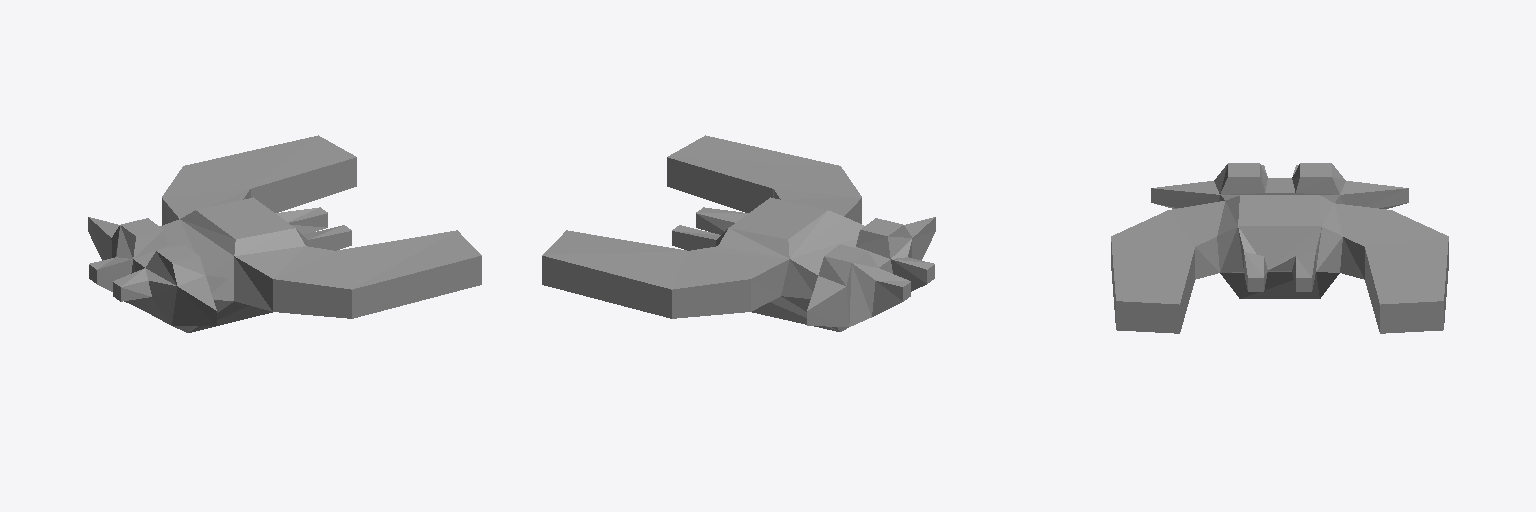
File: sosoqaloobj.obj
3 views of the same model, side by side, from view 1: azimuth 30°, elevation 25°; view 2: azimuth 150°, elevation 25°; view 3: azimuth 270°, elevation 25° (orthographic).
Parts seen in each view (by area): view 1: sowalo_Cube.005; view 2: sowalo_Cube.005; view 3: sowalo_Cube.005.
Part boxes in pixels (bbox=[...]): sowalo_Cube.005: bbox=[88, 135, 481, 332]; sowalo_Cube.005: bbox=[542, 135, 935, 331]; sowalo_Cube.005: bbox=[1111, 163, 1448, 333].
Size of the model in its own units: 29.13 by 7.54 by 28.16.